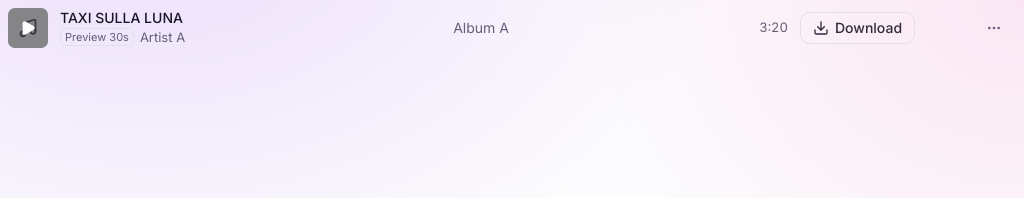
it: starting a download › already in the library: nothing is queued, the row says In library
Click the button "Download" at [858, 28], box [800,12,915,44]
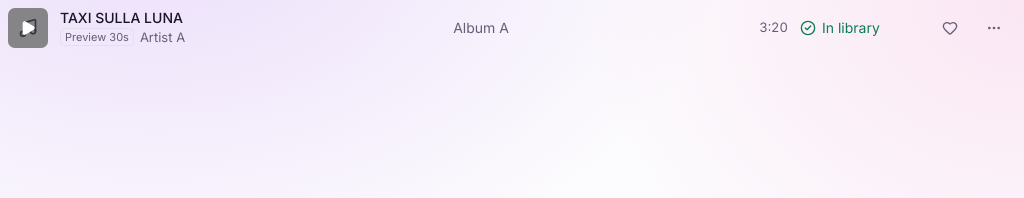
Expected: the element titled "In library" is shown, [800,19,880,36]
